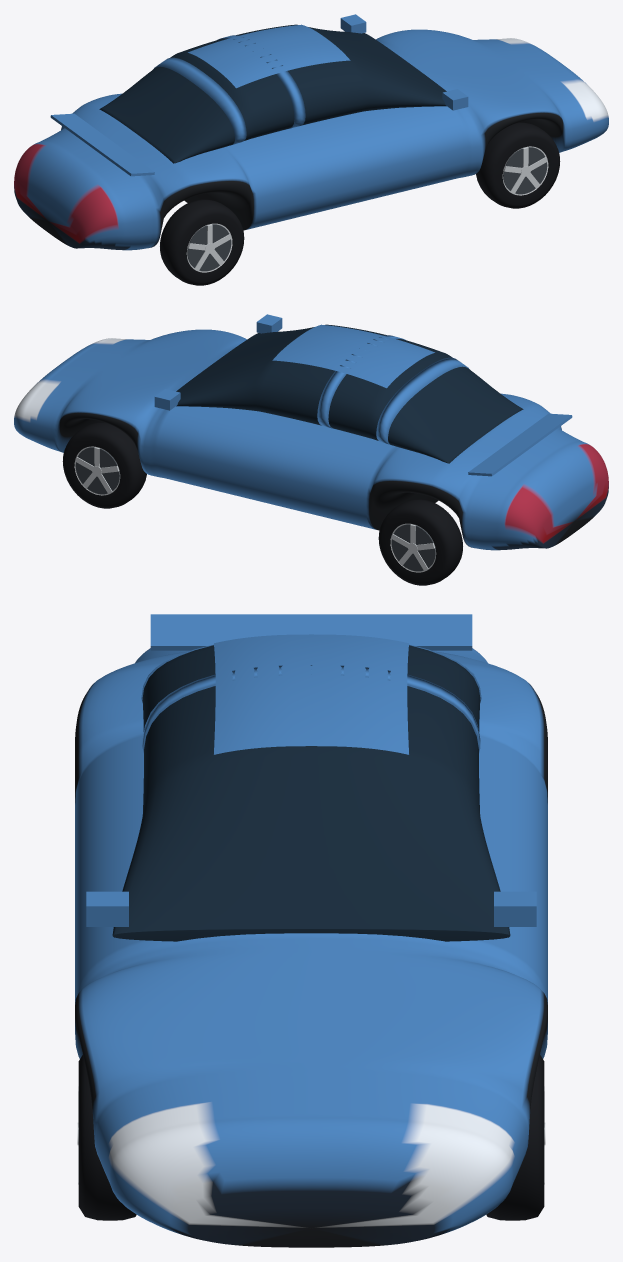
3 views of the same model, one above another, from view 1: azimuth 30°, elevation 25°; view 2: azimuth 150°, elevation 25°; view 3: azimuth 270°, elevation 25° (orthographic). The views are drawn at different scales.
Visible parts, largest first — view 1: body, glass, wheel (×2), roof, pillar (×2), spoiler, object 7, object 6; view 2: body, glass, wheel (×2), roof, pillar (×2), spoiler, object 6, object 7; view 3: body, glass, roof, spoiler, wheel (×2), pillar, object 6, object 7.
Part boxes in pixels (x1,y1,x2,y2): body: (14,29,608,250); glass: (99,24,446,163); wheel (×2): (160,122,560,285); roof: (188,24,350,88); pillar (×2): (153,35,305,144); spoiler: (50,113,154,176); object 7: (442,89,468,110); object 6: (340,14,366,33); body: (14,329,608,550); glass: (176,324,523,463); wheel (×2): (62,422,462,585); roof: (272,324,434,388); pillar (×2): (317,335,469,444); spoiler: (468,413,572,476); object 6: (154,389,180,410); object 7: (256,314,282,333); body: (75,648,547,1247); glass: (112,645,510,941); roof: (214,634,408,754); spoiler: (150,614,472,650); wheel (×2): (77,1055,545,1220); pillar: (142,665,480,752); object 6: (494,891,536,926); object 7: (86,891,128,926).
Bounding box in the file's own units: 4.8 × 1.49 × 1.88.
